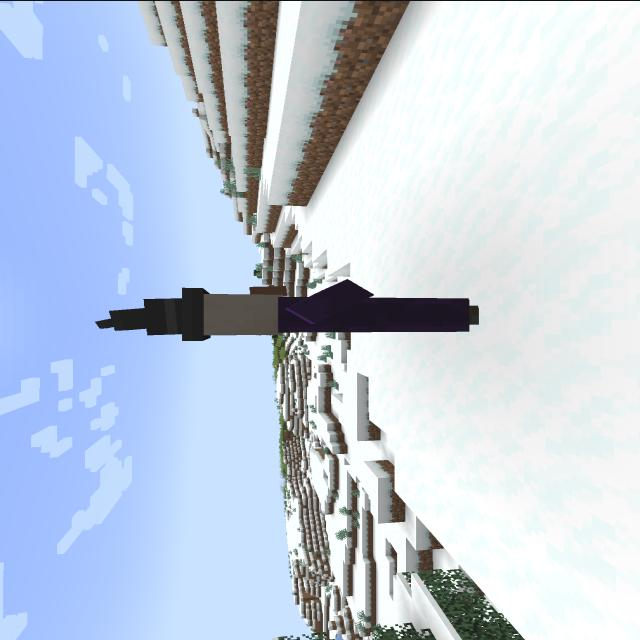Witch: (85, 266, 492, 356)
